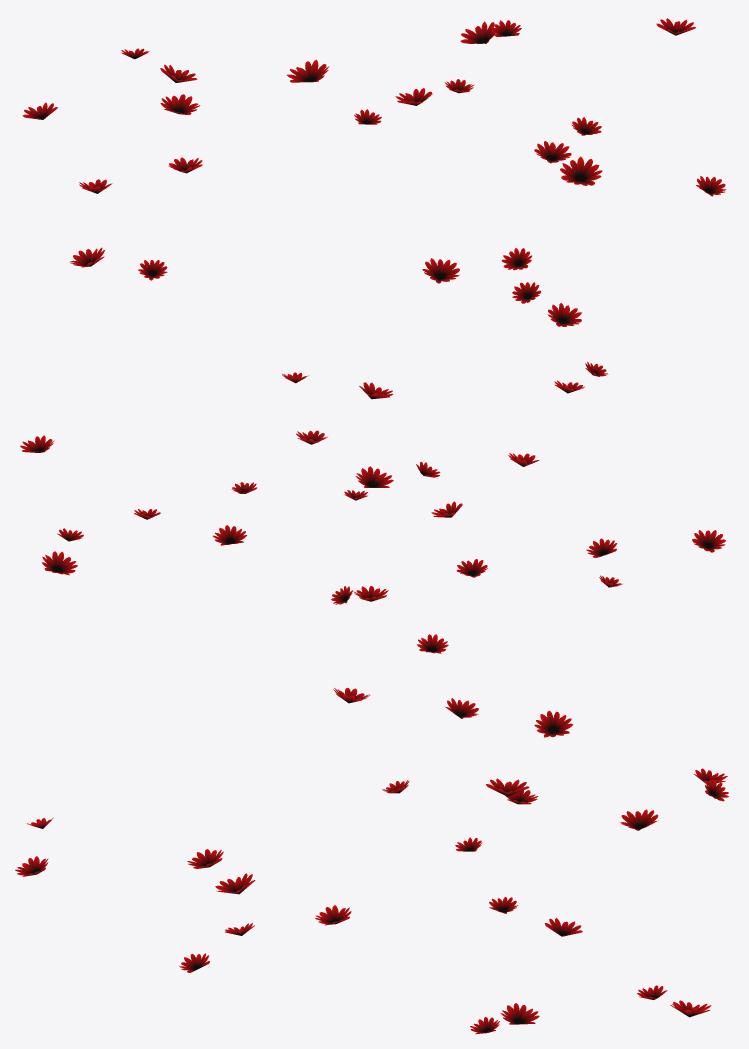
Rendered from SM_Flowers_A_01.fbx.
3 renders of one model, top to bottom at view 1: azimuth 30°, elevation 25°; view 2: azimuth 150°, elevation 25°; view 3: azimuth 270°, elevation 25°, orthographic. The views are drawn at different scales.
Visible parts, largest first — view 1: SM_Flowers_A_01_LOD0; view 2: SM_Flowers_A_01_LOD0; view 3: SM_Flowers_A_01_LOD0.
Part boxes in pixels (x1=…): SM_Flowers_A_01_LOD0: x1=22, y1=18, x2=726, y2=326; SM_Flowers_A_01_LOD0: x1=20, y1=362, x2=725, y2=653; SM_Flowers_A_01_LOD0: x1=15, y1=687, x2=728, y2=1034.
Bounding box in the file's own units: 304 × 55.24 × 266.
